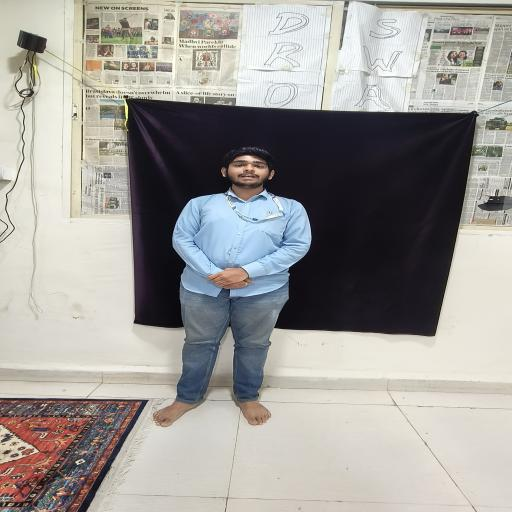survivor: (152, 146, 312, 428)
